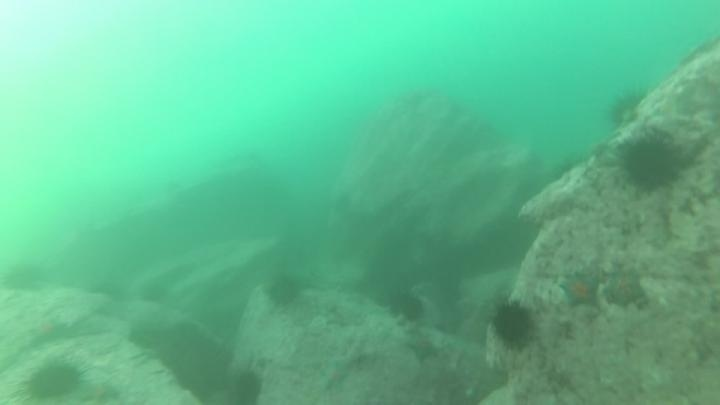echinus: (613, 127, 686, 196), (22, 357, 87, 403), (489, 297, 538, 351), (604, 85, 651, 132), (2, 258, 52, 297), (263, 271, 305, 309), (384, 288, 427, 324), (229, 367, 266, 405), (126, 319, 166, 353), (138, 278, 171, 307)
starfish: (600, 264, 650, 311), (556, 269, 604, 312), (393, 327, 443, 366), (24, 313, 71, 350), (315, 354, 356, 395), (78, 380, 124, 404)
